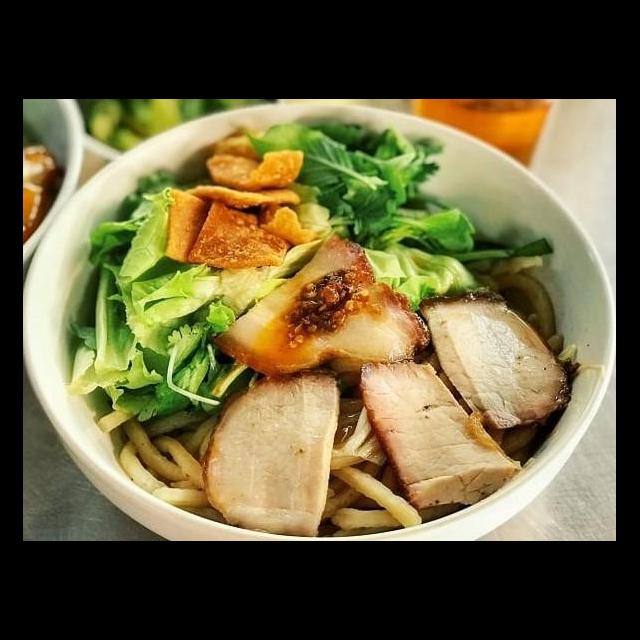banh da: (184, 197, 298, 270), (200, 124, 308, 194), (160, 183, 226, 265), (178, 180, 304, 212), (253, 197, 324, 248)
mi: (95, 396, 224, 523), (314, 393, 424, 541), (458, 252, 580, 366)
mi quang: (29, 132, 616, 541)
thit heo: (202, 230, 436, 382), (356, 356, 528, 511), (196, 365, 344, 541), (413, 287, 584, 432)
